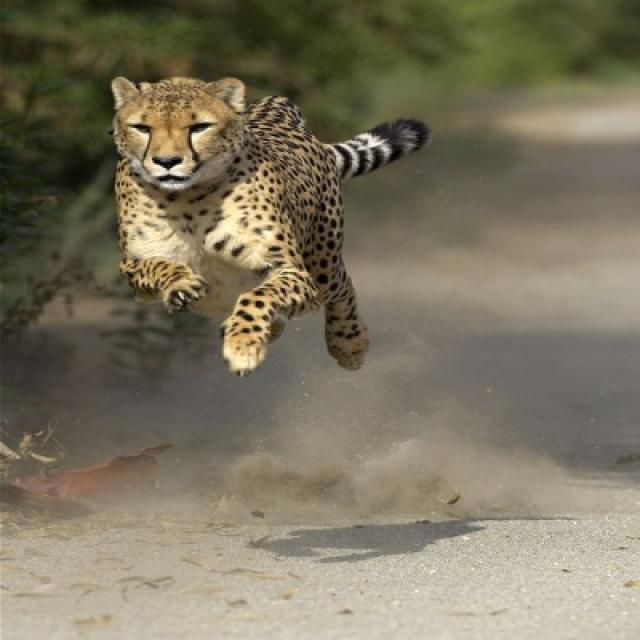Cheetah: (110, 78, 430, 376)
